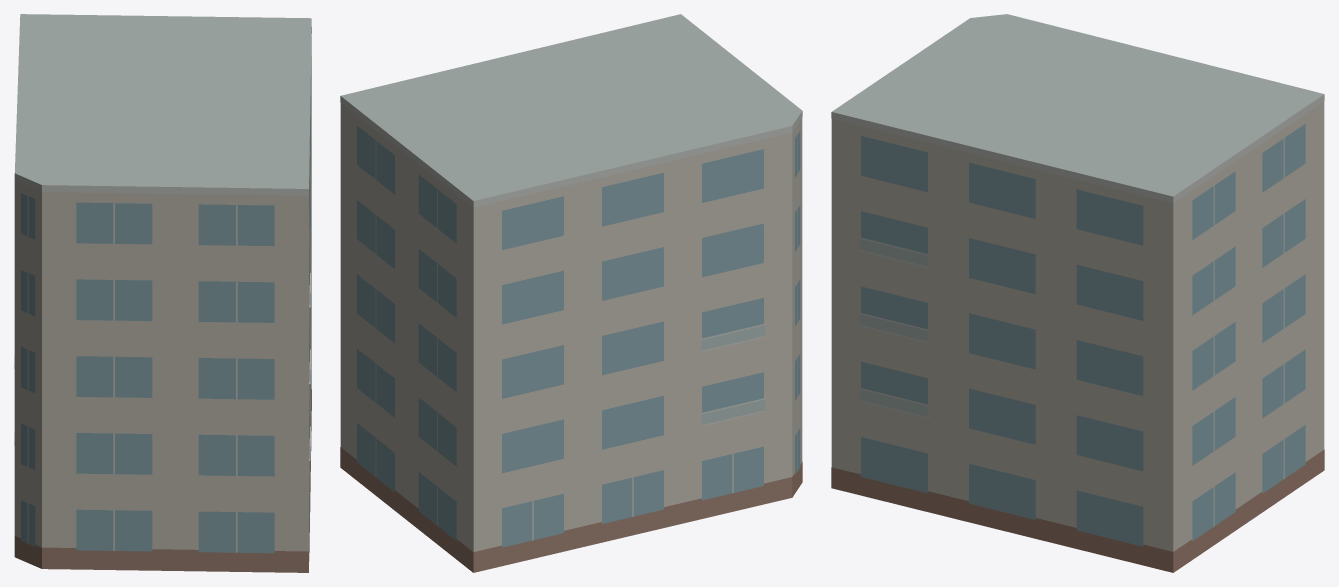
The model's file is survey-upis-32843579.glb.
3 renders of one model, left to right at view 1: azimuth 30°, elevation 25°; view 2: azimuth 150°, elevation 25°; view 3: azimuth 270°, elevation 25°, orthographic. The views are drawn at different scales.
Parts seen in each view (by area): view 1: survey-upis-32843579.tmp; view 2: survey-upis-32843579.tmp; view 3: survey-upis-32843579.tmp.
Boxes of the visible parts, <box> form: survey-upis-32843579.tmp: <box>14,14,311,572</box>; survey-upis-32843579.tmp: <box>340,14,802,572</box>; survey-upis-32843579.tmp: <box>831,14,1324,572</box>.
Bounding box in the file's own units: 14.11 × 13.55 × 16.1.
